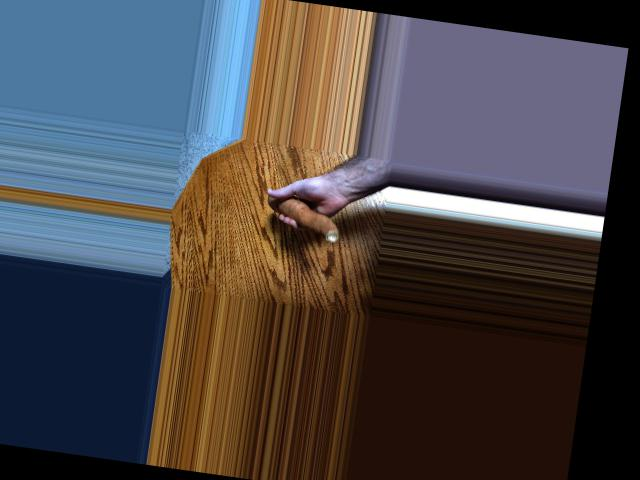sweet_potato: (264, 191, 347, 242)
